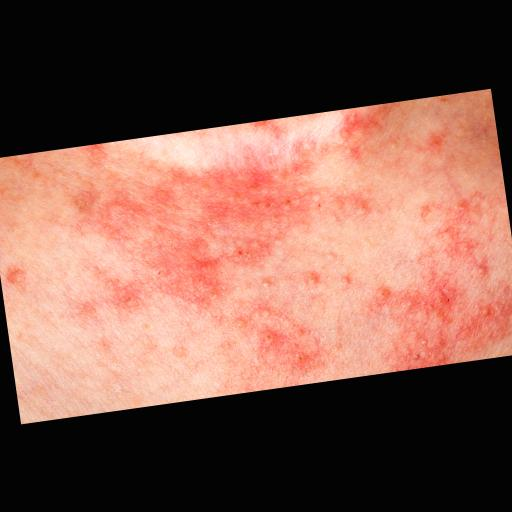Skin_Lesion: (192, 150, 306, 232), (147, 231, 230, 312), (74, 182, 163, 239), (374, 278, 464, 328), (257, 312, 315, 380), (382, 330, 450, 370), (337, 107, 387, 157), (468, 301, 512, 340), (104, 277, 146, 312), (340, 188, 378, 224), (0, 261, 32, 288), (469, 254, 495, 281)
